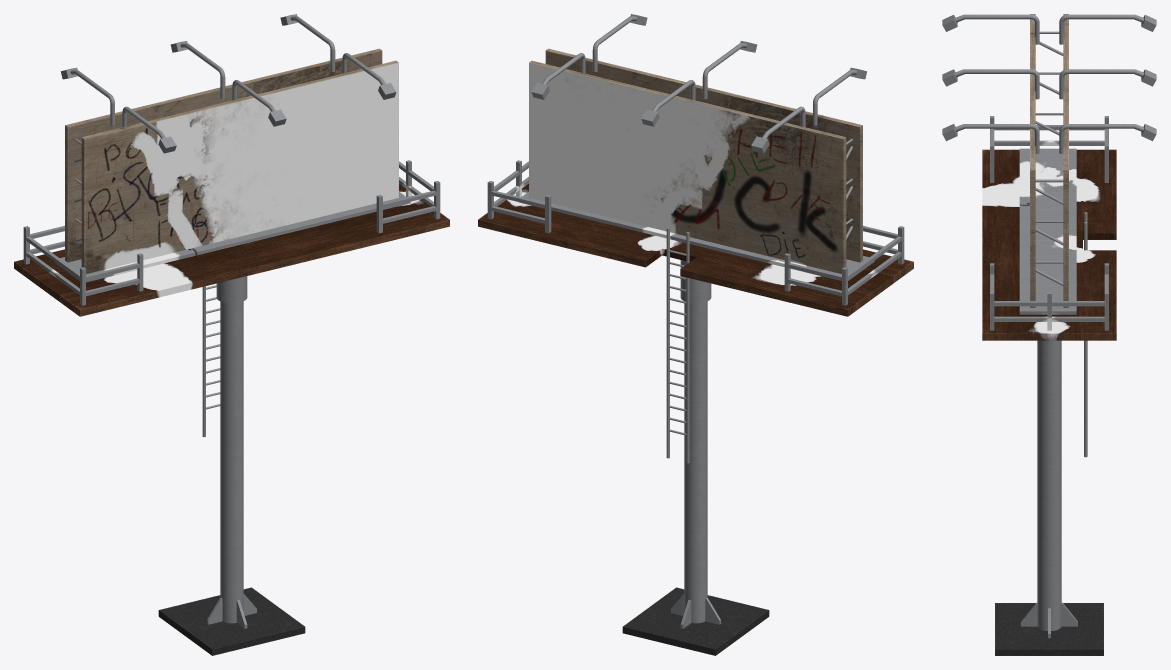
Rendered from abandoned_billboard.glb.
The picture shows the model from 3 angles, left to right: view 1: azimuth 30°, elevation 25°; view 2: azimuth 150°, elevation 25°; view 3: azimuth 270°, elevation 25°; orthographic projection.
Visible parts, largest first — view 1: shield_low, base_low, pillar_low, light_support_low, fence_low, fence2_low, stand_low, light_low, support_low; view 2: shield_low, base_low, pillar_low, light_support_low, stairs_low, fence_low, fence2_low, stand_low, light_low, stairs2_low, support_low; view 3: base_low, pillar_low, light_support_low, shield_low, fence2_low, light_low, support2_low, stand_low, support_low, stairs_low, fence_low.
Boxes of the visible parts, bbox=[...] form: shield_low: bbox=[65, 48, 398, 273]; base_low: bbox=[14, 183, 449, 655]; pillar_low: bbox=[216, 276, 247, 623]; light_support_low: bbox=[70, 16, 385, 138]; fence_low: bbox=[30, 190, 436, 296]; fence2_low: bbox=[26, 161, 433, 294]; stand_low: bbox=[23, 181, 440, 305]; light_low: bbox=[61, 14, 396, 153]; support_low: bbox=[207, 594, 256, 628]; shield_low: bbox=[529, 48, 862, 273]; base_low: bbox=[478, 183, 913, 655]; pillar_low: bbox=[680, 260, 711, 623]; light_support_low: bbox=[542, 16, 857, 138]; stairs_low: bbox=[666, 227, 689, 463]; fence_low: bbox=[491, 190, 897, 296]; fence2_low: bbox=[494, 161, 901, 294]; stand_low: bbox=[487, 181, 904, 305]; light_low: bbox=[531, 14, 866, 153]; stairs2_low: bbox=[668, 250, 686, 435]; support_low: bbox=[671, 594, 720, 628]; base_low: bbox=[982, 148, 1116, 655]; pillar_low: bbox=[1037, 340, 1061, 630]; light_support_low: bbox=[954, 14, 1144, 153]; shield_low: bbox=[1030, 14, 1068, 307]; fence2_low: bbox=[994, 125, 1104, 321]; light_low: bbox=[942, 14, 1156, 141]; support2_low: bbox=[1035, 31, 1063, 285]; stand_low: bbox=[990, 116, 1108, 330]; support_low: bbox=[1021, 602, 1077, 638]; stairs_low: bbox=[1084, 212, 1087, 457]; fence_low: bbox=[990, 128, 1108, 291].
Bounding box in the file's own units: 11.28 × 16.08 × 5.56.
2 materials, 2 textured.
